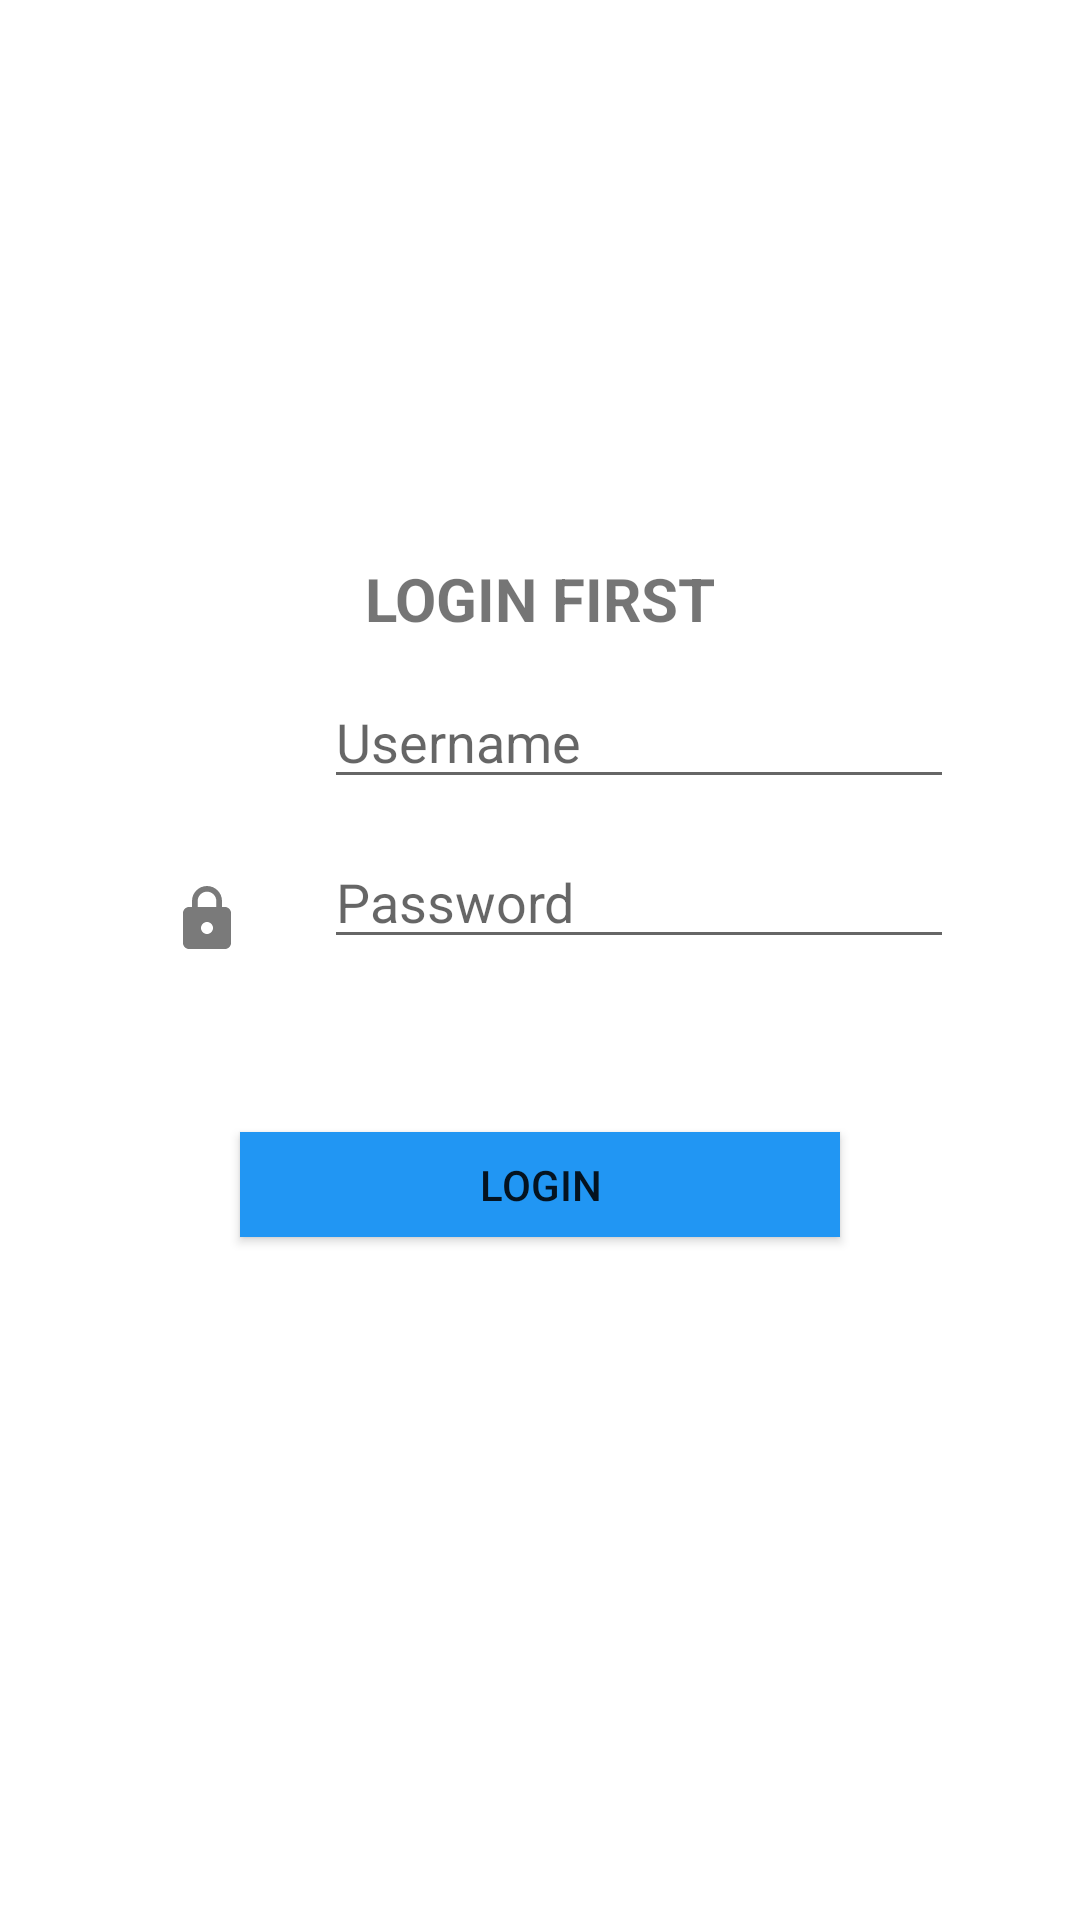

Named icons in this screenshot (1080px×1920px) and their bounding boxes, (x1, y1, x2, y2):
lock: (183, 886, 231, 949)
